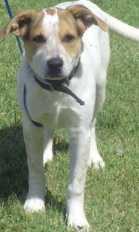Dog: (0, 1, 109, 215)
